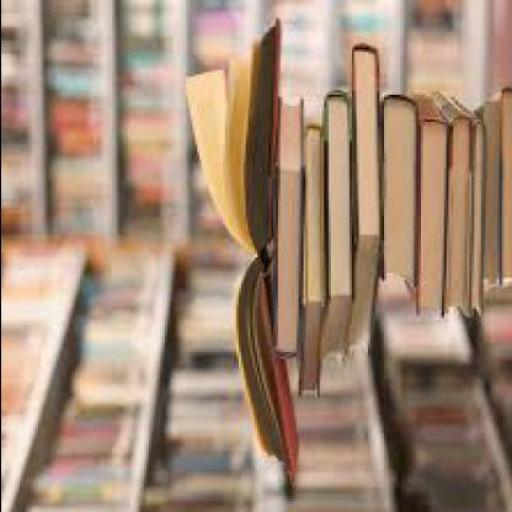paper: (182, 18, 293, 483), (346, 43, 380, 350), (265, 93, 302, 354), (442, 95, 484, 316), (429, 90, 466, 316), (376, 90, 418, 284), (293, 122, 322, 400), (319, 88, 348, 356), (406, 92, 441, 314), (482, 87, 510, 287), (471, 95, 495, 289)
